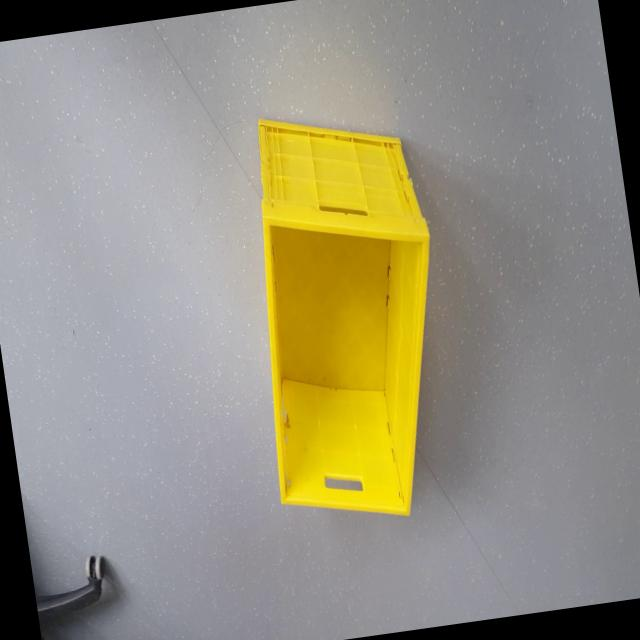box: (223, 64, 472, 547)
